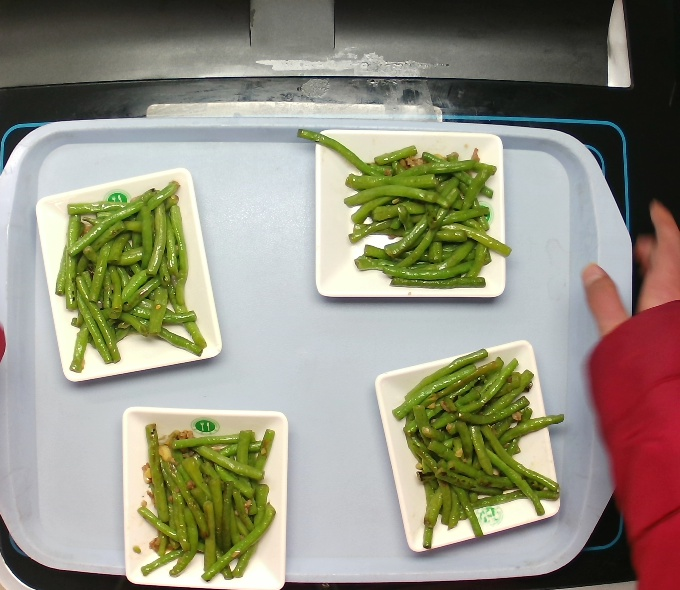wcq-RouMoJiangDou: (32, 170, 226, 382), (394, 343, 561, 553), (316, 138, 513, 294), (122, 404, 284, 589)
